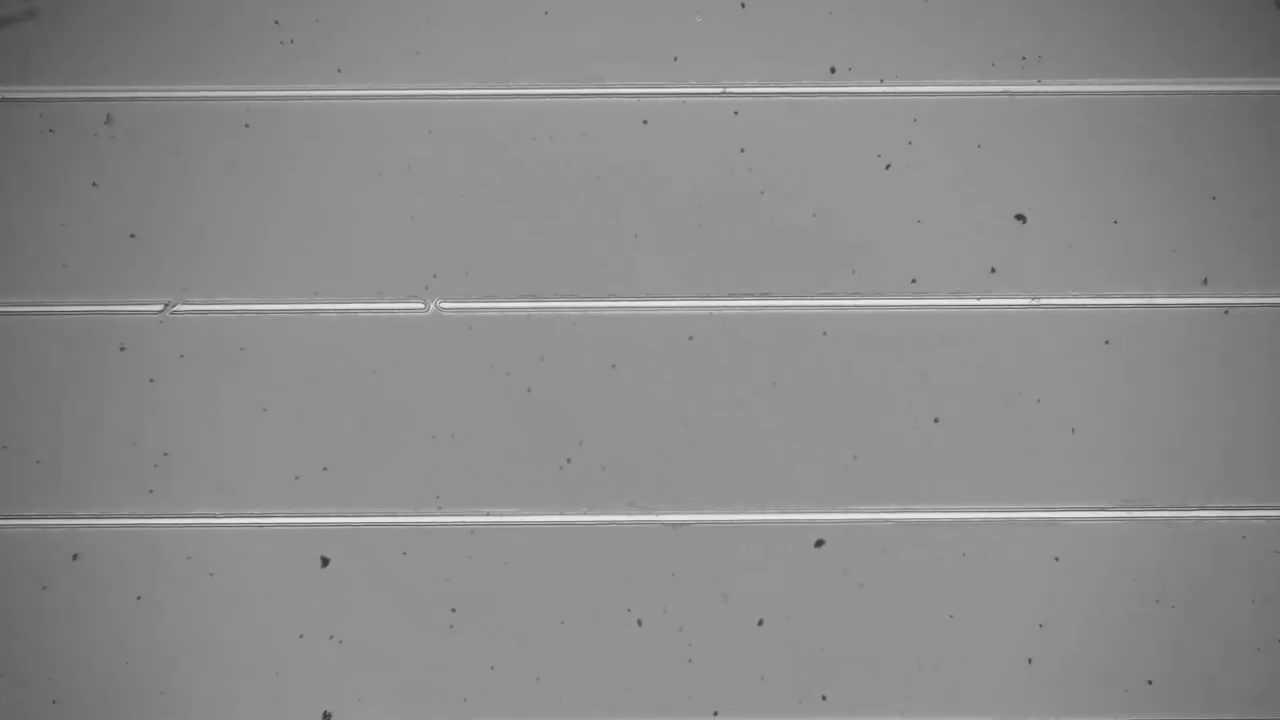open: (409, 286, 454, 322), (151, 293, 187, 324)
